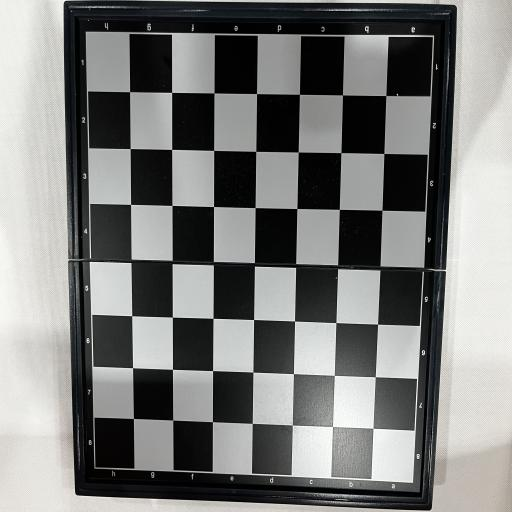Board: (63, 0, 457, 510)
